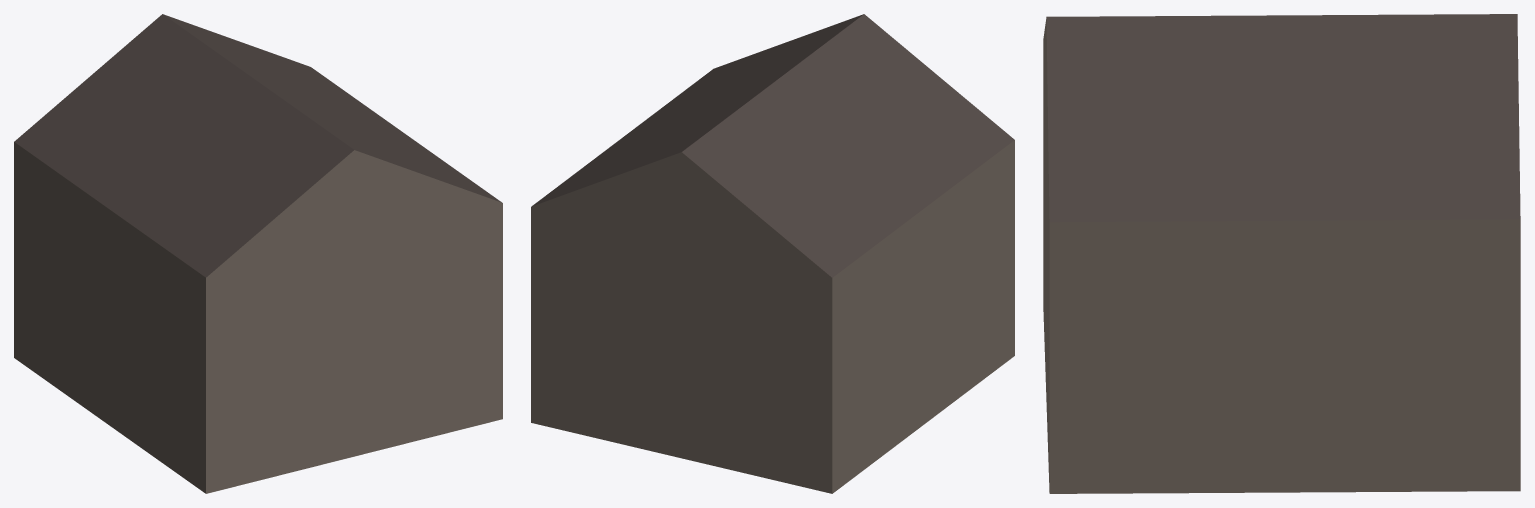
The picture shows the model from 3 angles, left to right: view 1: azimuth 30°, elevation 25°; view 2: azimuth 150°, elevation 25°; view 3: azimuth 270°, elevation 25°; orthographic projection. The views are drawn at different scales.
Visible parts, largest first — view 1: HP-w858824304; view 2: HP-w858824304; view 3: HP-w858824304.
Part boxes in pixels (box(x1,y1,x2,y2)): HP-w858824304: box(14, 14, 502, 493); HP-w858824304: box(531, 14, 1014, 493); HP-w858824304: box(1043, 14, 1520, 493).
Size of the model in its own units: 8.82 by 8.51 by 9.55.
